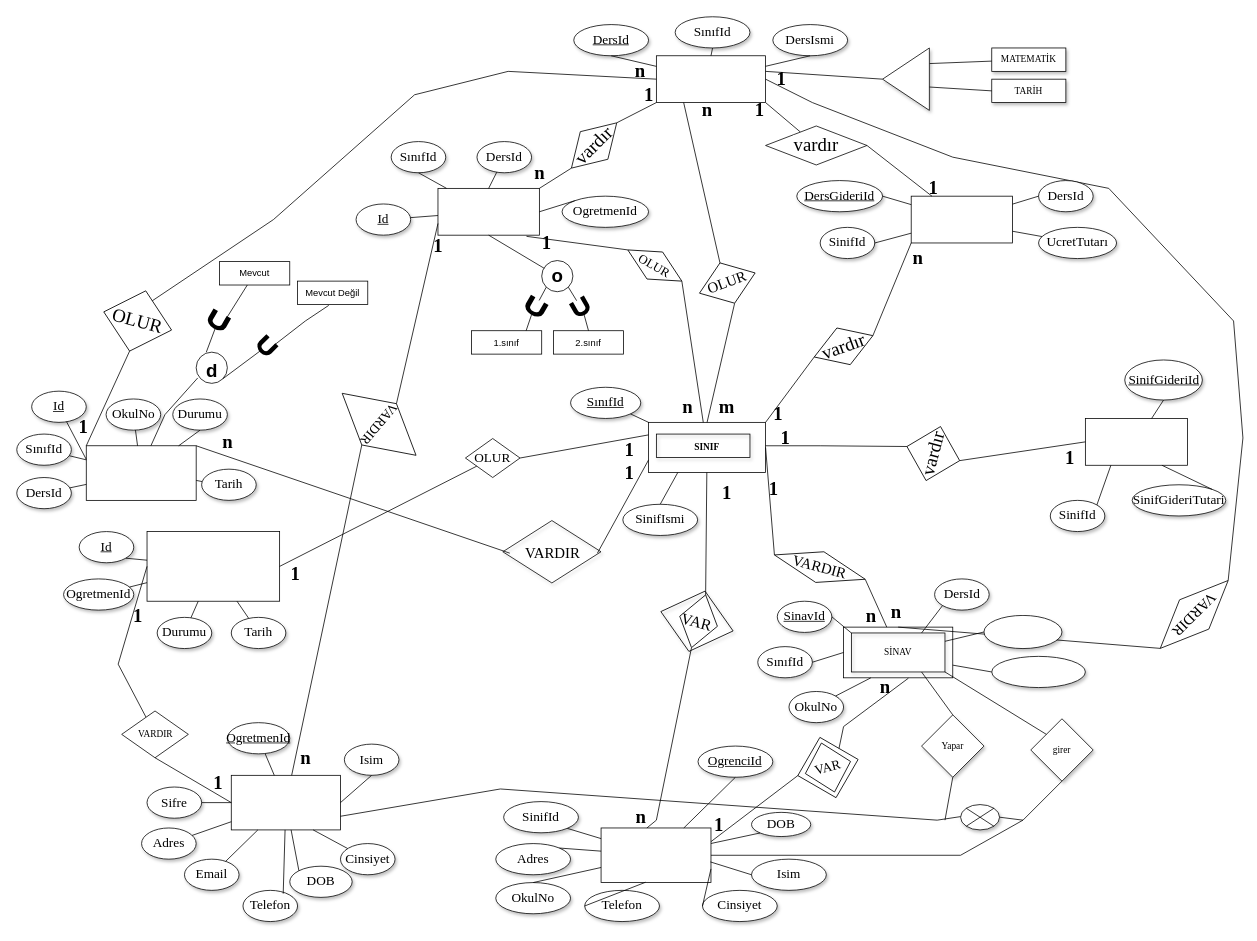
Image size: 1257x941. Some labels were removed from this diagram. The shapes that lost their labels are listed below. From the top down, each one's centre as x and y in pixels, then its label:
At (711,79): "DERS".
At (906,80): "ISA".
At (488,211): "DersOgretmeni".
At (961,219): "DersGideri".
At (1136,441): "SinifGideri".
At (140,472): "ÖĞRENCİ KATILIMI".
At (213,566): "ÖĞRETMEN KATILIMI".
At (1023,633): "toplamNotlar".
At (1039,672): "digerNotlar".
At (285,802): "ÖĞRETMEN".
At (655,855): "ÖĞRENCİ".
